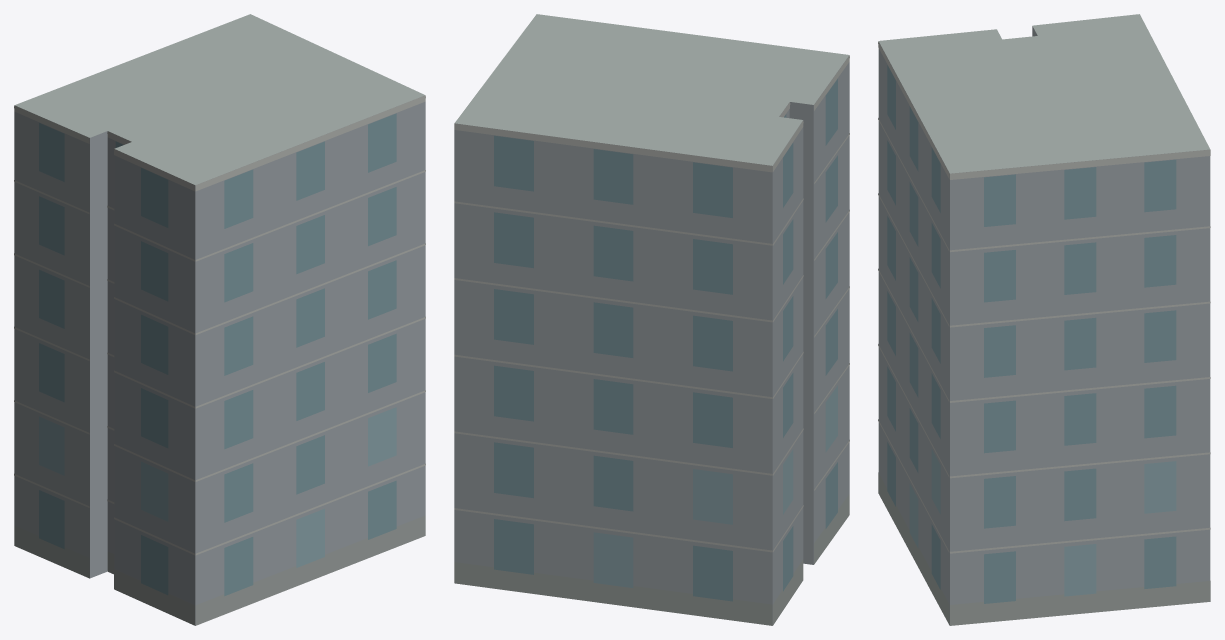
Rendered from survey-upis-32964977.glb.
3 renders of one model, left to right at view 1: azimuth 30°, elevation 25°; view 2: azimuth 150°, elevation 25°; view 3: azimuth 270°, elevation 25°, orthographic. The views are drawn at different scales.
Parts seen in each view (by area): view 1: survey-upis-32964977.tmp; view 2: survey-upis-32964977.tmp; view 3: survey-upis-32964977.tmp.
Part boxes in pixels (bbox=[...]): survey-upis-32964977.tmp: bbox=[14, 14, 425, 625]; survey-upis-32964977.tmp: bbox=[454, 14, 849, 625]; survey-upis-32964977.tmp: bbox=[878, 14, 1210, 625].
Size of the model in its own units: 12.89 by 17 by 11.34.
